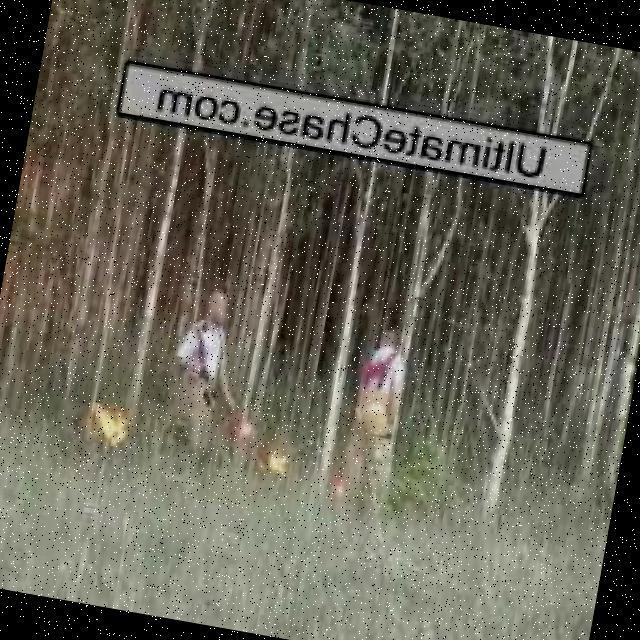Fire: (82, 406, 134, 450), (230, 416, 266, 449), (263, 450, 292, 481), (331, 478, 348, 502)
